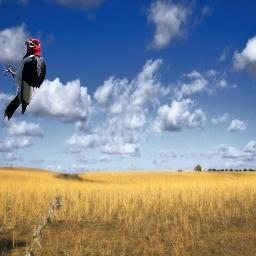Woodpecker: (0, 33, 47, 125)
